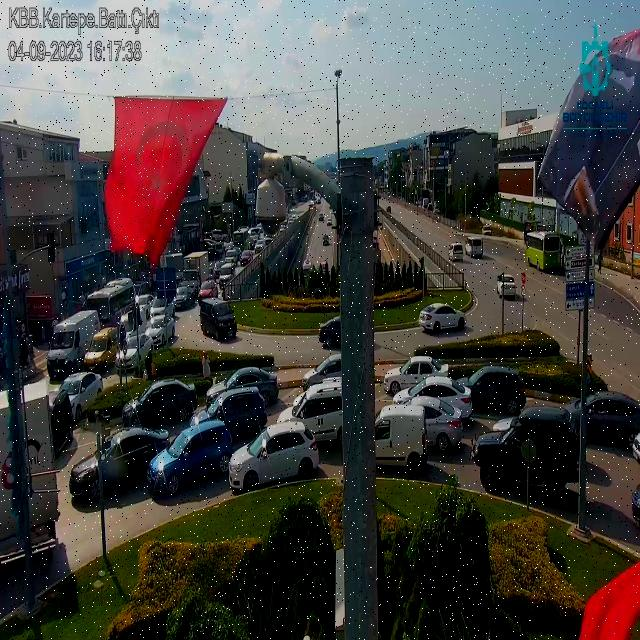Bus: (86, 279, 136, 324), (526, 230, 562, 272)
Car: (471, 406, 583, 502), (68, 424, 170, 500), (145, 418, 234, 496), (227, 421, 319, 493), (565, 391, 638, 450), (276, 382, 342, 447), (190, 387, 268, 441), (390, 374, 474, 424), (120, 378, 199, 430), (459, 366, 528, 416), (204, 366, 278, 410), (50, 370, 104, 421), (383, 356, 451, 396), (85, 326, 125, 372), (417, 302, 468, 334), (116, 332, 155, 372), (302, 353, 344, 389), (144, 313, 176, 347), (318, 315, 342, 347), (149, 296, 174, 322), (174, 286, 198, 310), (134, 294, 156, 320), (496, 273, 517, 299), (198, 281, 218, 299), (448, 242, 464, 262), (218, 262, 235, 280), (240, 250, 254, 265)
Truck: (182, 250, 208, 290)
Van: (377, 401, 429, 470), (48, 308, 101, 375), (198, 297, 239, 341), (465, 236, 484, 258)
